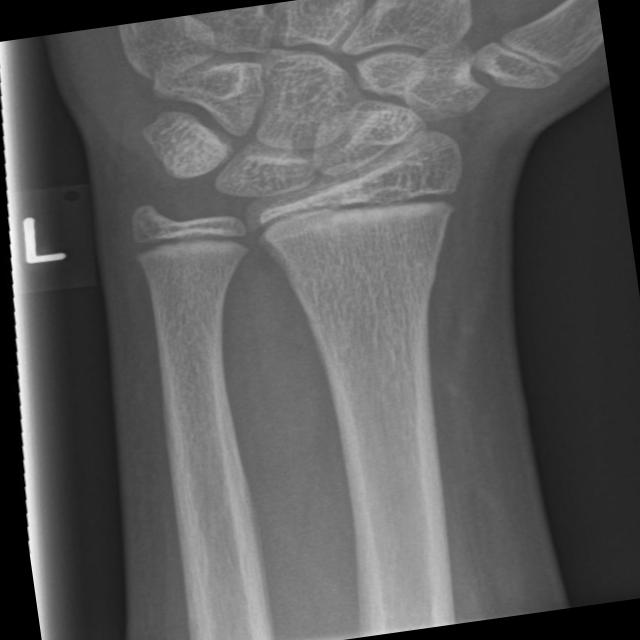fracture: (230, 172, 472, 256), (116, 200, 264, 275)
